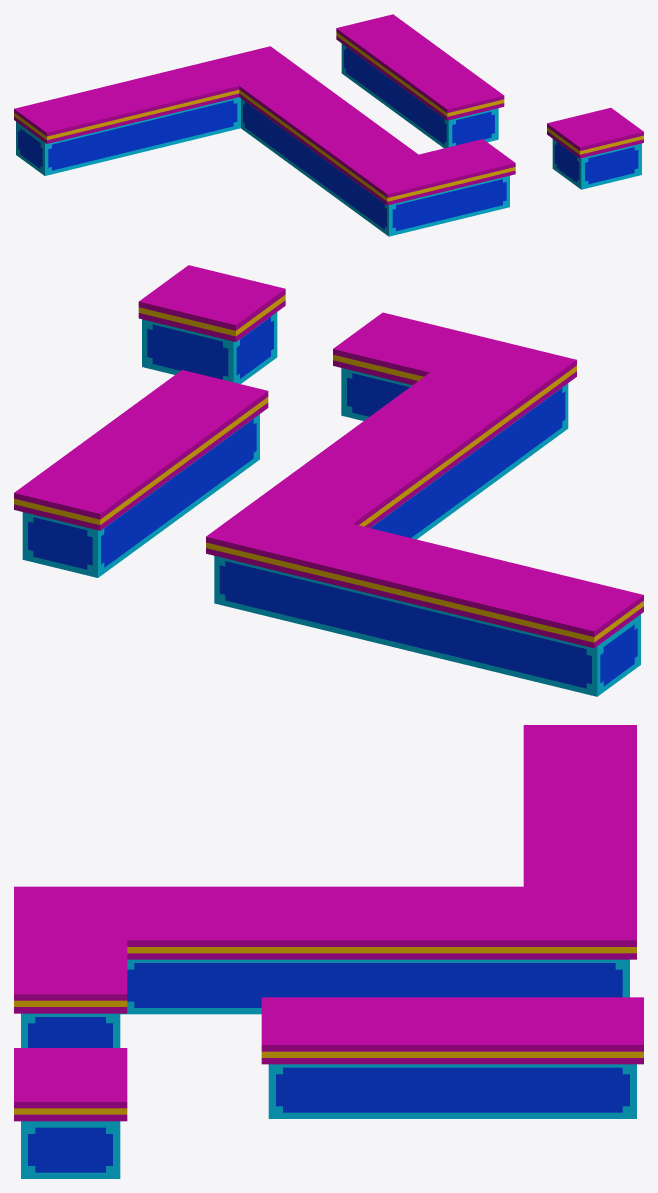
The model's file is level_2.1.obj.
3 renders of one model, top to bottom at view 1: azimuth 30°, elevation 25°; view 2: azimuth 150°, elevation 25°; view 3: azimuth 270°, elevation 25°, orthographic. The views are drawn at different scales.
Bounding box in the file's own units: 12.6 × 1.2 × 8.9.
Materials: 1 (1 with a texture image).
